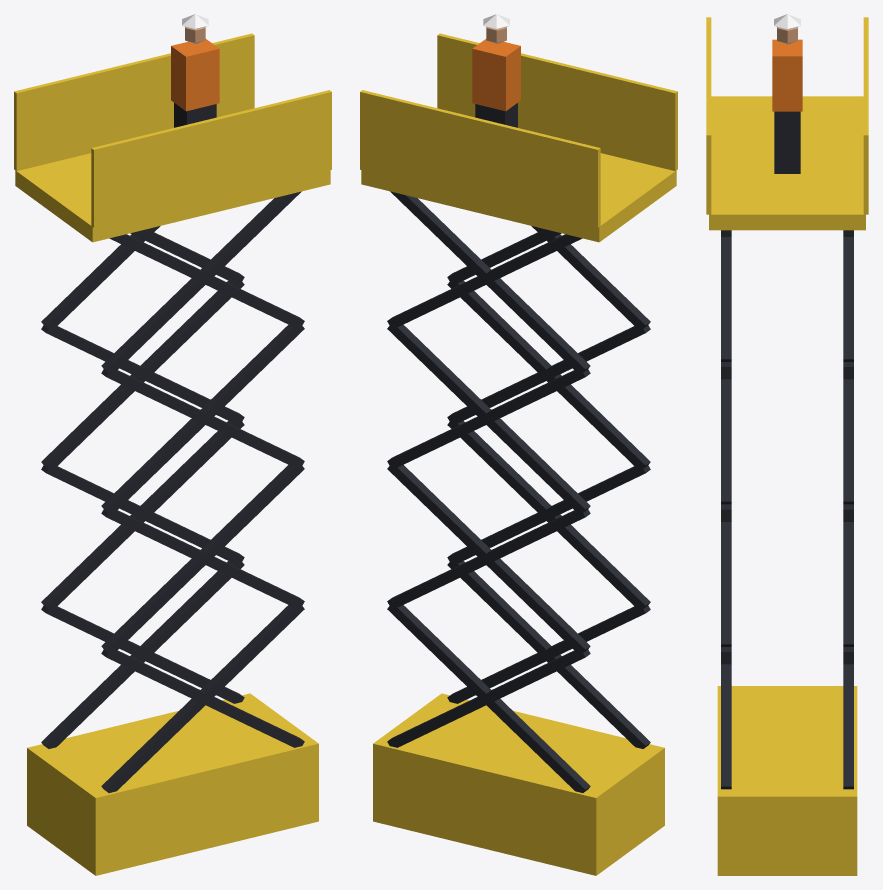
The model's file is plataforma_tijera.obj.
3 renders of one model, left to right at view 1: azimuth 30°, elevation 25°; view 2: azimuth 150°, elevation 25°; view 3: azimuth 270°, elevation 25°, orthographic.
Visible parts, largest first — view 1: plataforma_tijera; view 2: plataforma_tijera; view 3: plataforma_tijera.
Part boxes in pixels (left/top/right/bottom): plataforma_tijera: left=14, top=14, right=331, bottom=875; plataforma_tijera: left=360, top=14, right=677, bottom=875; plataforma_tijera: left=706, top=14, right=868, bottom=875.
Bounding box in the file's own units: 3.2 × 10.33 × 1.86.
